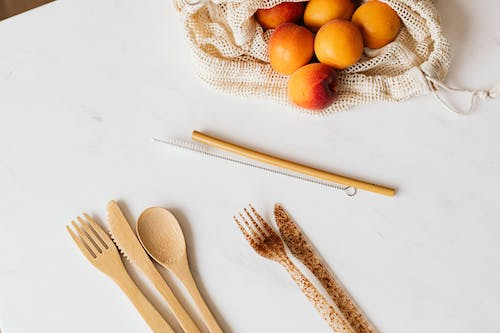knife: (271, 200, 381, 333), (103, 195, 203, 333)
